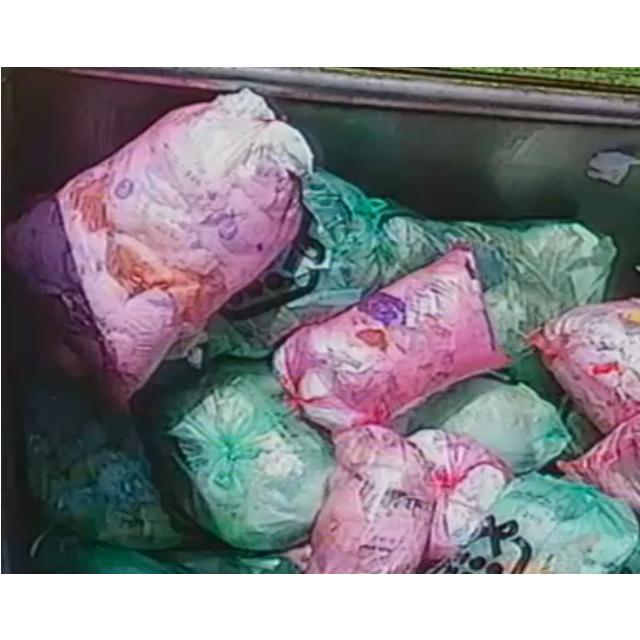general_trashbag: (203, 169, 616, 357), (157, 361, 334, 550), (25, 375, 179, 549), (431, 471, 640, 573), (393, 376, 571, 473)
other_trashbag: (4, 90, 313, 398), (274, 247, 510, 429), (306, 425, 431, 572), (530, 297, 640, 432), (407, 429, 511, 569)
